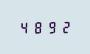eight: (31, 20, 43, 34)
four: (18, 20, 30, 34)
nine: (44, 20, 56, 33)
two: (57, 19, 69, 33)
